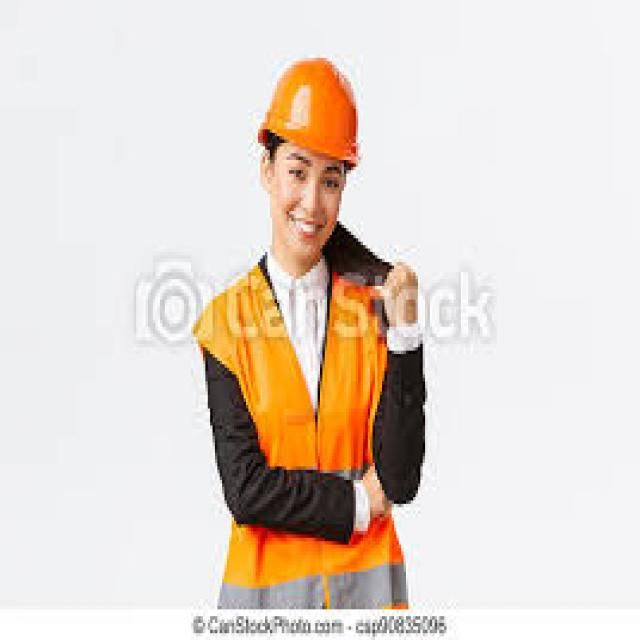Reflective-Jacket: (196, 255, 408, 589)
Safety-Helmet: (256, 51, 366, 170)
